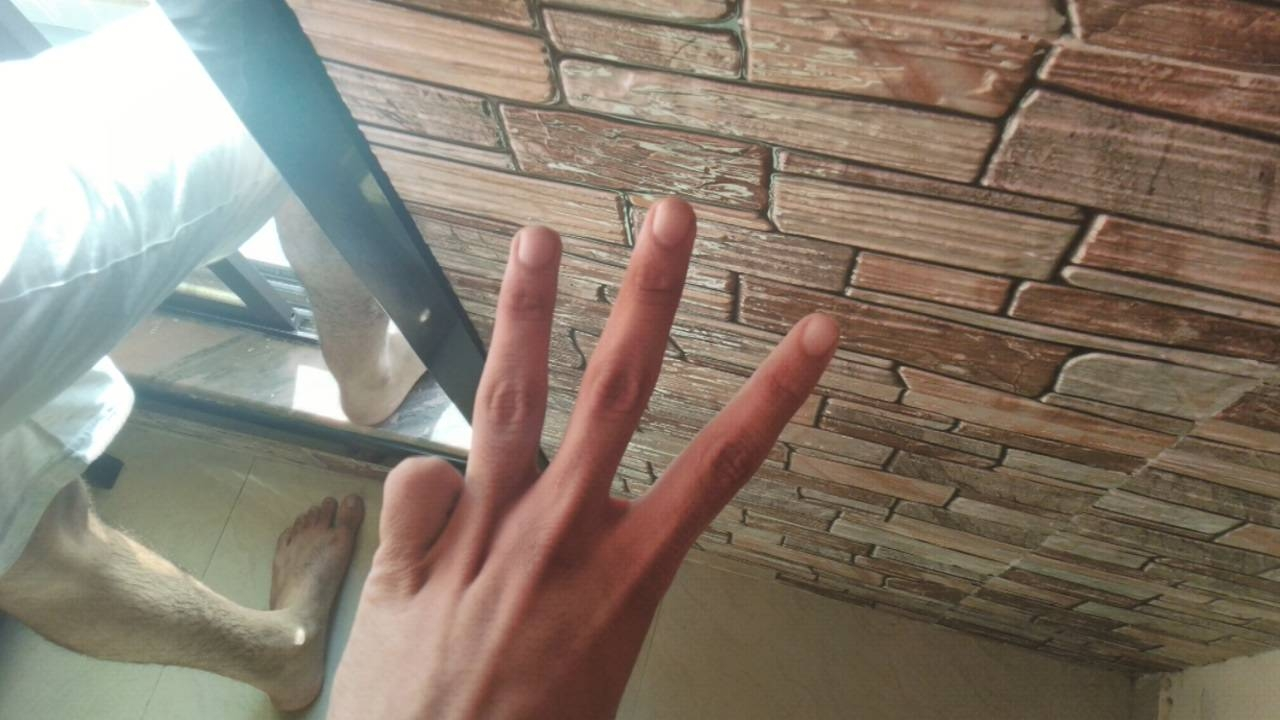fingertip: (636, 186, 702, 258), (498, 216, 562, 278), (786, 306, 848, 364)
